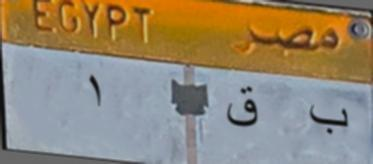1: (84, 66, 108, 113)
baa: (304, 96, 350, 139)
qaaf: (222, 84, 264, 133)
